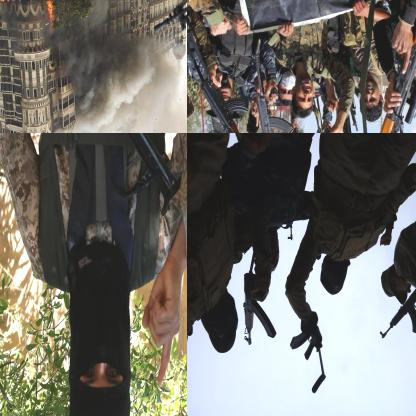rifle: (63, 133, 183, 216), (187, 31, 271, 132), (357, 0, 415, 132), (284, 278, 332, 401), (235, 269, 280, 352), (376, 272, 415, 342), (255, 95, 296, 132)
